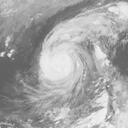cyclone: (40, 45, 84, 92)
